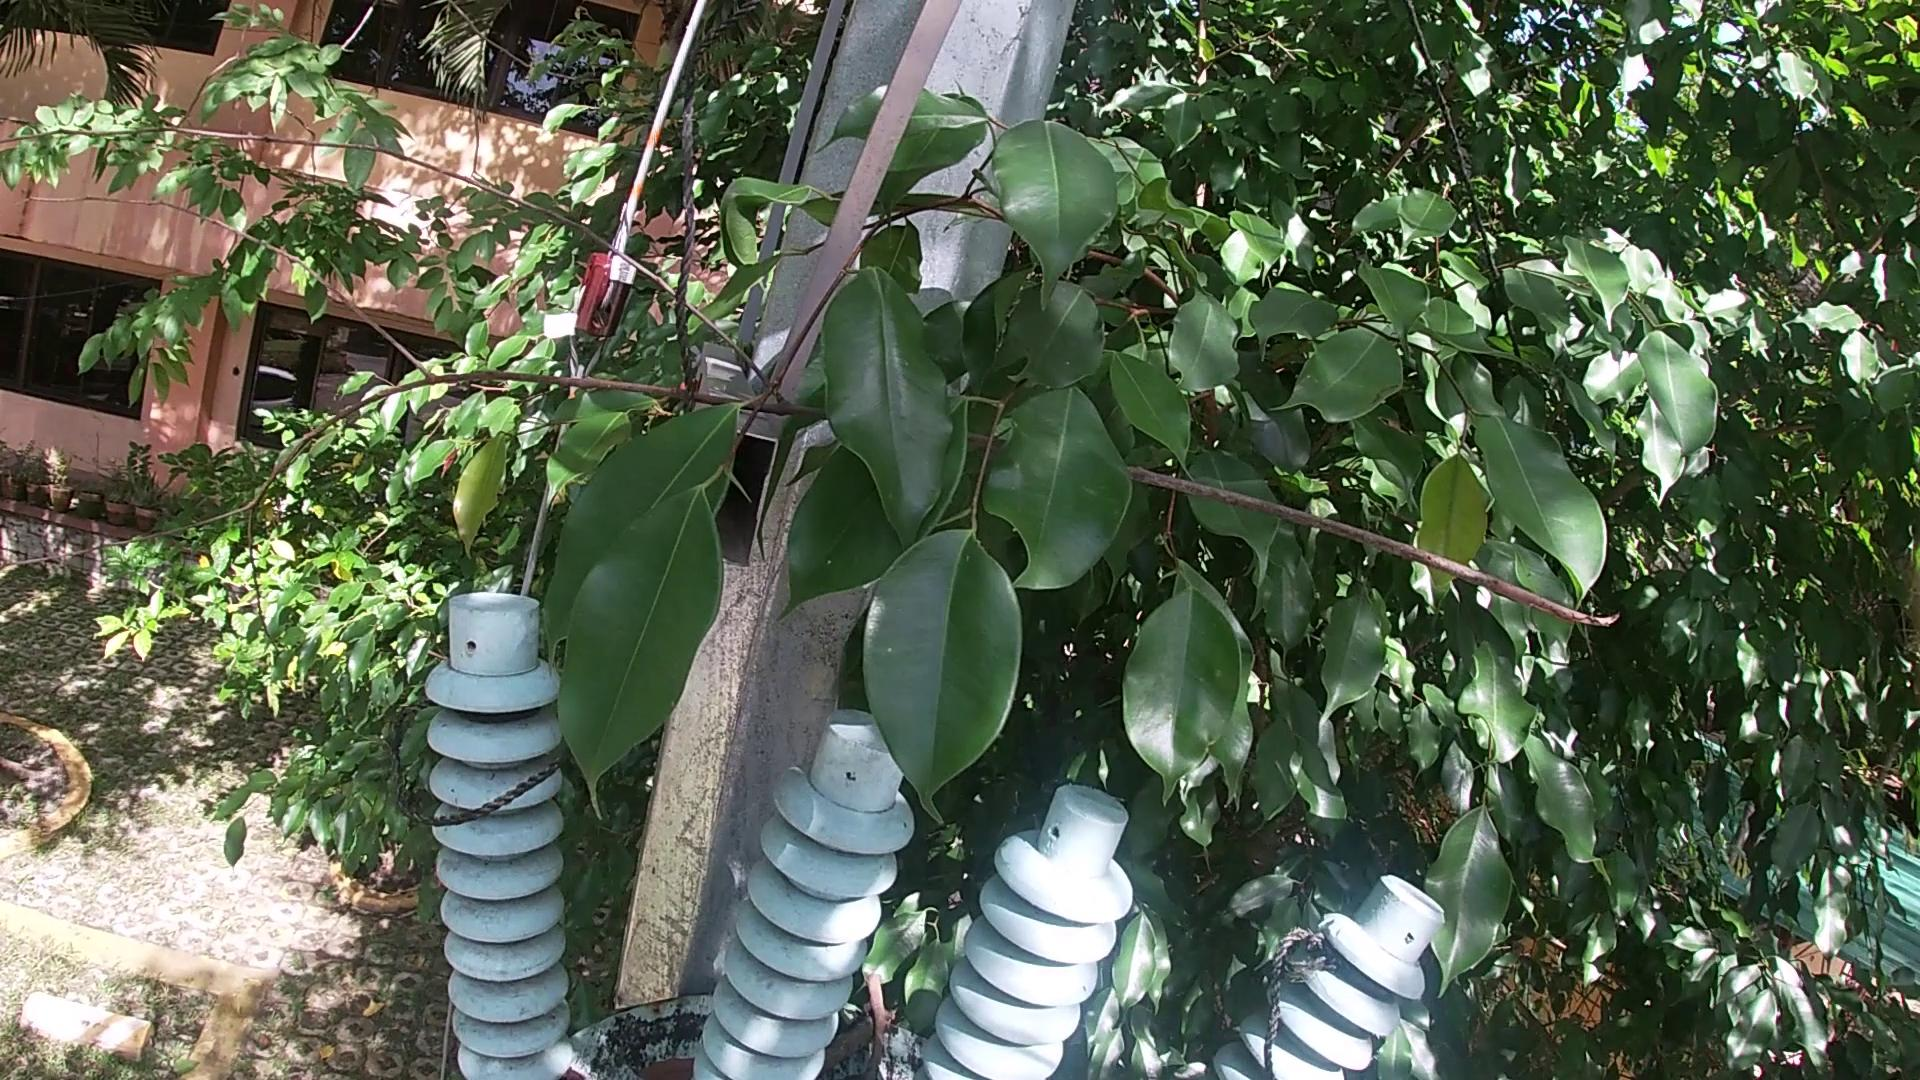leaf: (632, 1058, 703, 1073)
tree branch: (1, 67, 1683, 694), (824, 1006, 905, 1065), (862, 967, 885, 1073)
